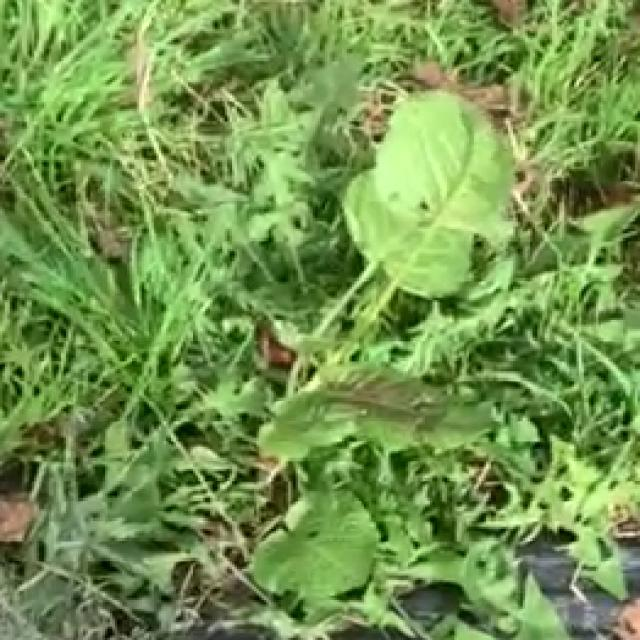organic waste: (137, 120, 606, 633)
